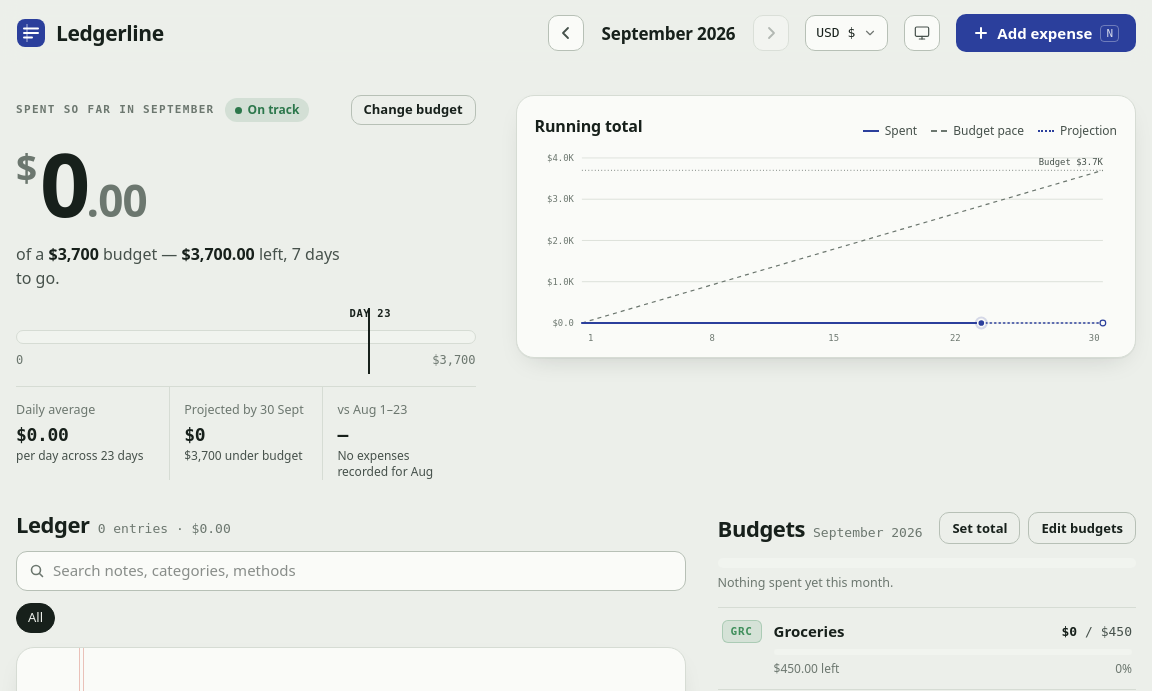
Scenario: MonthlyBudgetDialog › sets this month’s budget (carried onward by default) and splits it across categories
This screenshot has width=1152, height=691.
expect the text "$3,700" next to "of a" is shown: met, box [48,243,99,265]
Click the button "Change budget" at x=413, y=110, box [350,95,476,125]
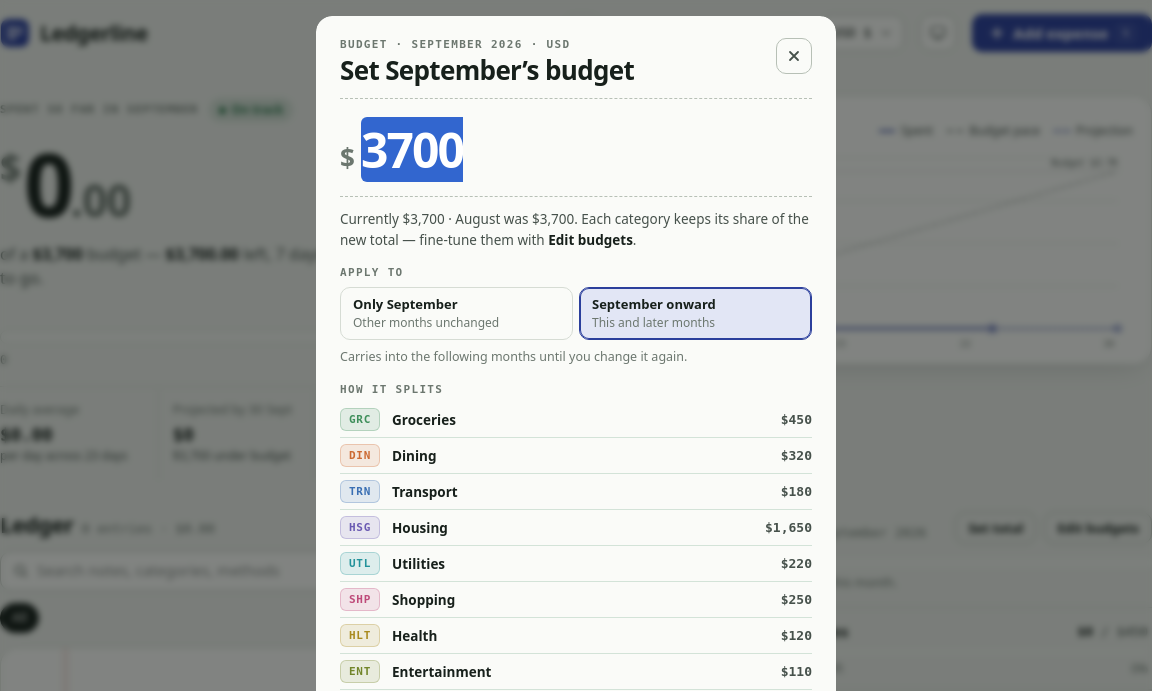
expect the field named "budget" holds "3700": met
expect the radio button labelled "September onward This and later months" is checked: met, box [579,287,812,340]
Replace the text in the field named "budget" with "7400" at x=586, y=150, box [361,118,812,182]
(page scrolled)
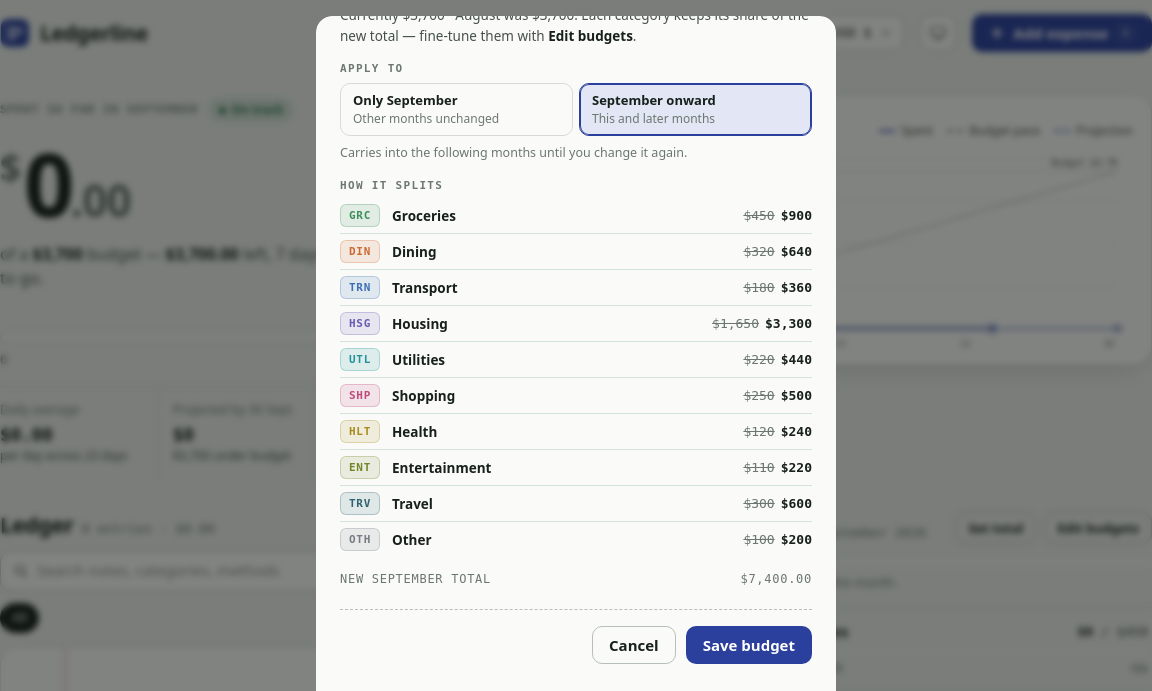
expect the text "$3,300" is shown: met, box [765,316,812,331]
Click the button "Save budget" at x=749, y=645, box [686,626,812,664]
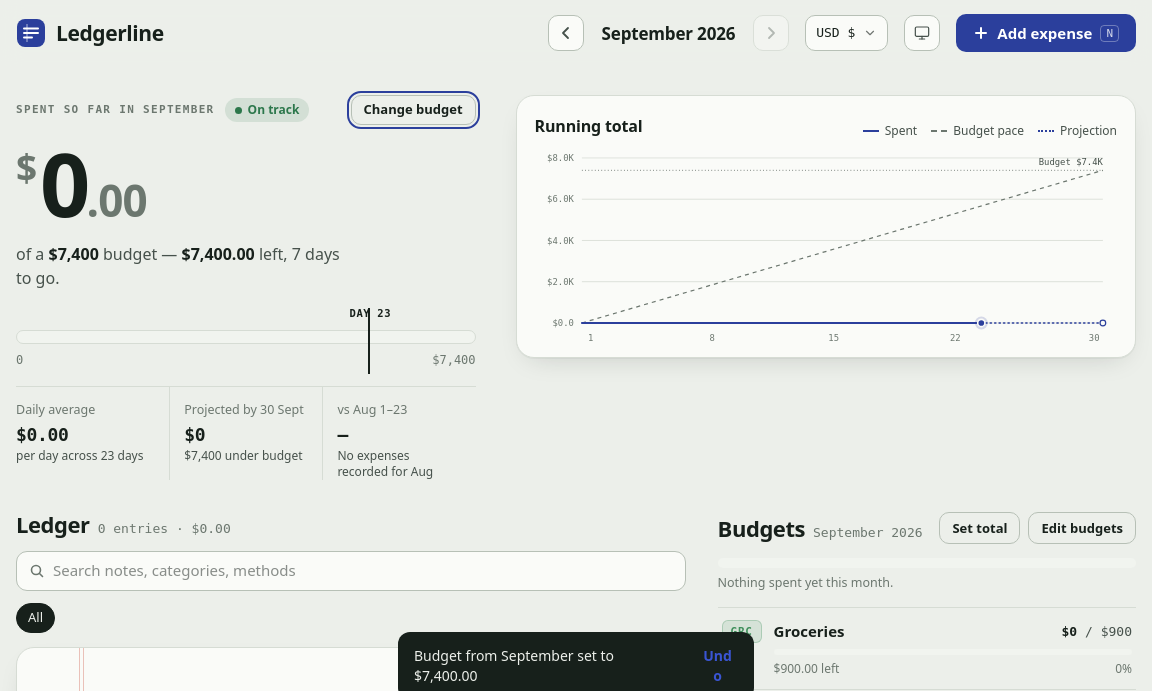
expect the text "$7,400" next to "of a" is shown: met, box [48,243,99,265]
